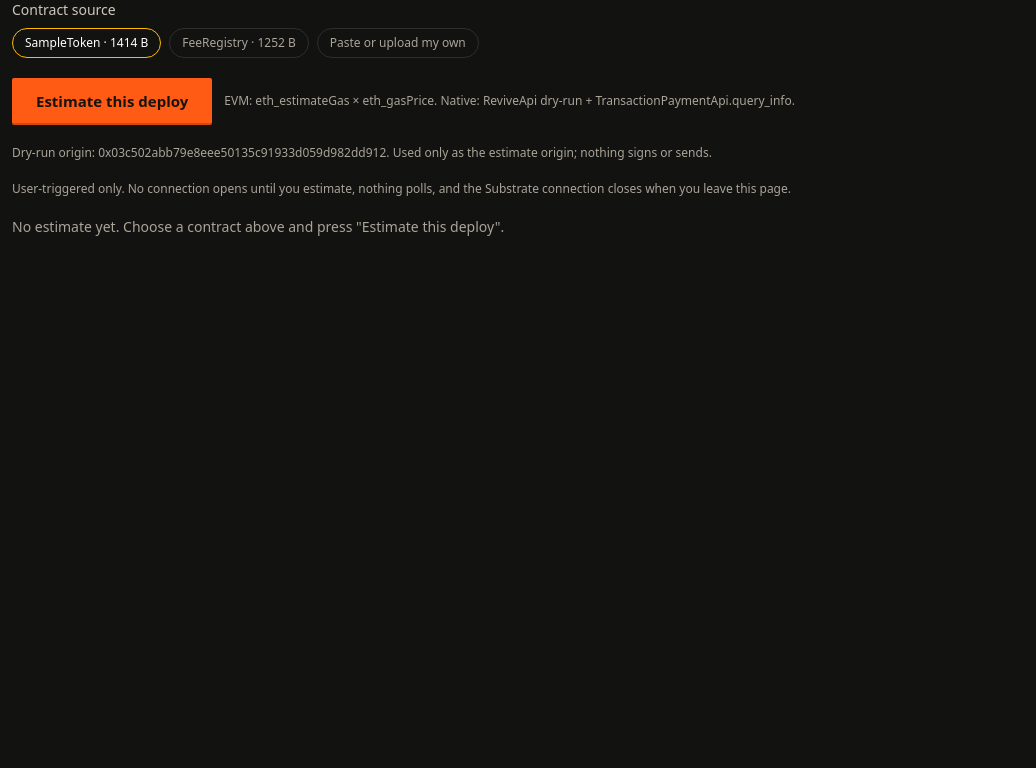
Test: DeployCostCalculator › estimates the sample deploy on both surfaces with a fee-only vs all-in breakdown
Expected: the text "Contract source" is shown, [12, 0, 116, 19]
Click the button "Estimate this deploy" at (112,101), box [12, 78, 212, 124]
(page scrolled)
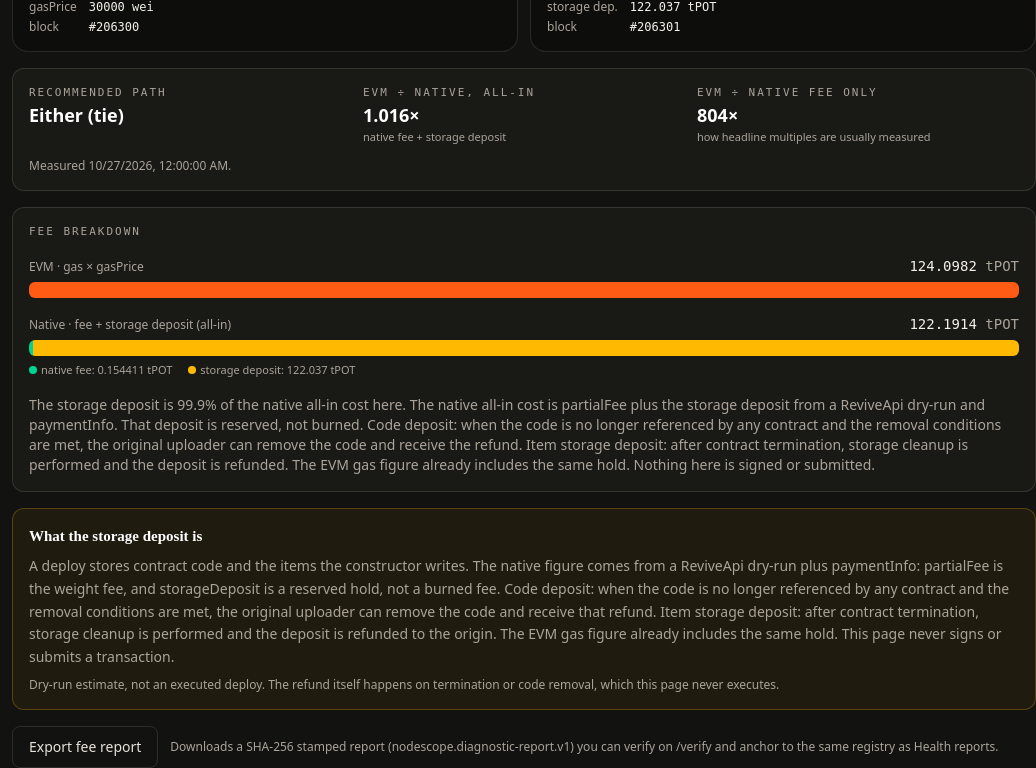
Result: the text "1.016×" is shown at [363, 103, 420, 127]
Result: the text "804×" is shown at [697, 103, 738, 127]
Result: the text "Either (tie)" is shown at [29, 103, 124, 127]
